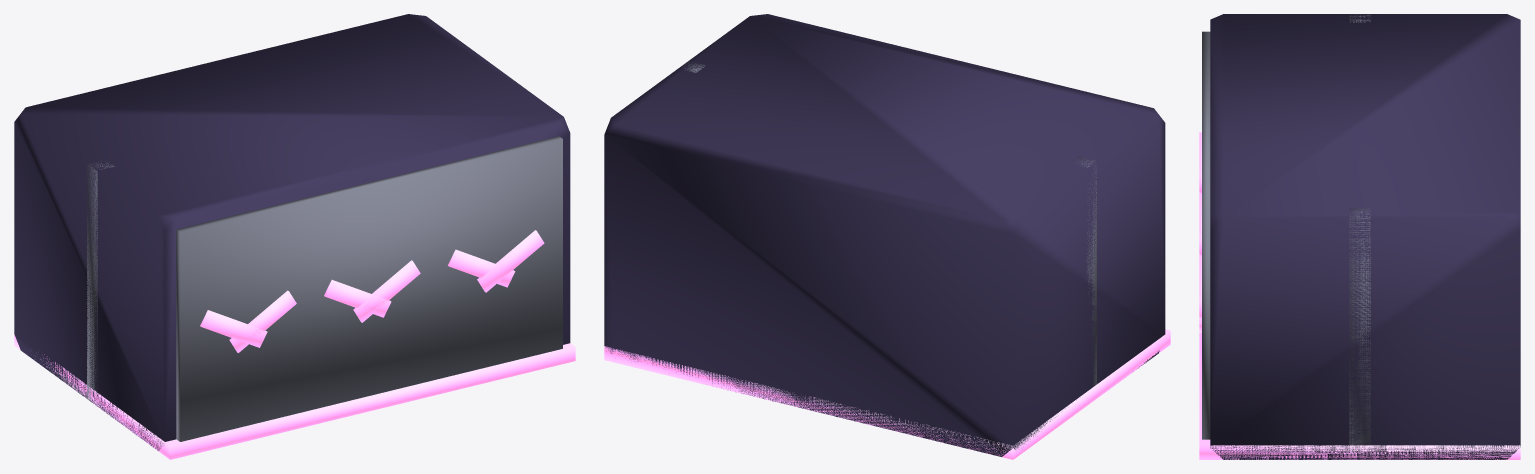
The model's file is OBS_HighSlide_Gate.glb.
The picture shows the model from 3 angles, left to right: view 1: azimuth 30°, elevation 25°; view 2: azimuth 150°, elevation 25°; view 3: azimuth 270°, elevation 25°; orthographic projection. The views are drawn at different scales.
Visible parts, largest first — view 1: body, faceplate, lip_strip, hanger_l, chevron_2_1, chevron_1_1, chevron_0_-1, chevron_1_-1, chevron_0_1, chevron_2_-1; view 2: body, lip_strip, hanger_l; view 3: body, lip_strip, hanger_r, faceplate.
Boxes of the visible parts, x1,y1,x2,y2 form: body: (14,14,570,450); faceplate: (176,136,562,441); lip_strip: (14,334,575,459); hanger_l: (87,161,114,401); chevron_2_1: (477,230,544,292); chevron_1_1: (353,260,420,322); chevron_0_-1: (200,310,267,347); chevron_1_-1: (324,280,391,317); chevron_0_1: (229,290,296,352); chevron_2_-1: (448,249,515,287); body: (604,14,1165,456); lip_strip: (604,329,1170,459); hanger_l: (1073,157,1096,386); body: (1210,14,1520,459); lip_strip: (1199,333,1520,459); hanger_r: (1349,208,1370,459); faceplate: (1202,31,1210,439).
Size of the model in its own units: 1.8 by 1 by 1.2.
